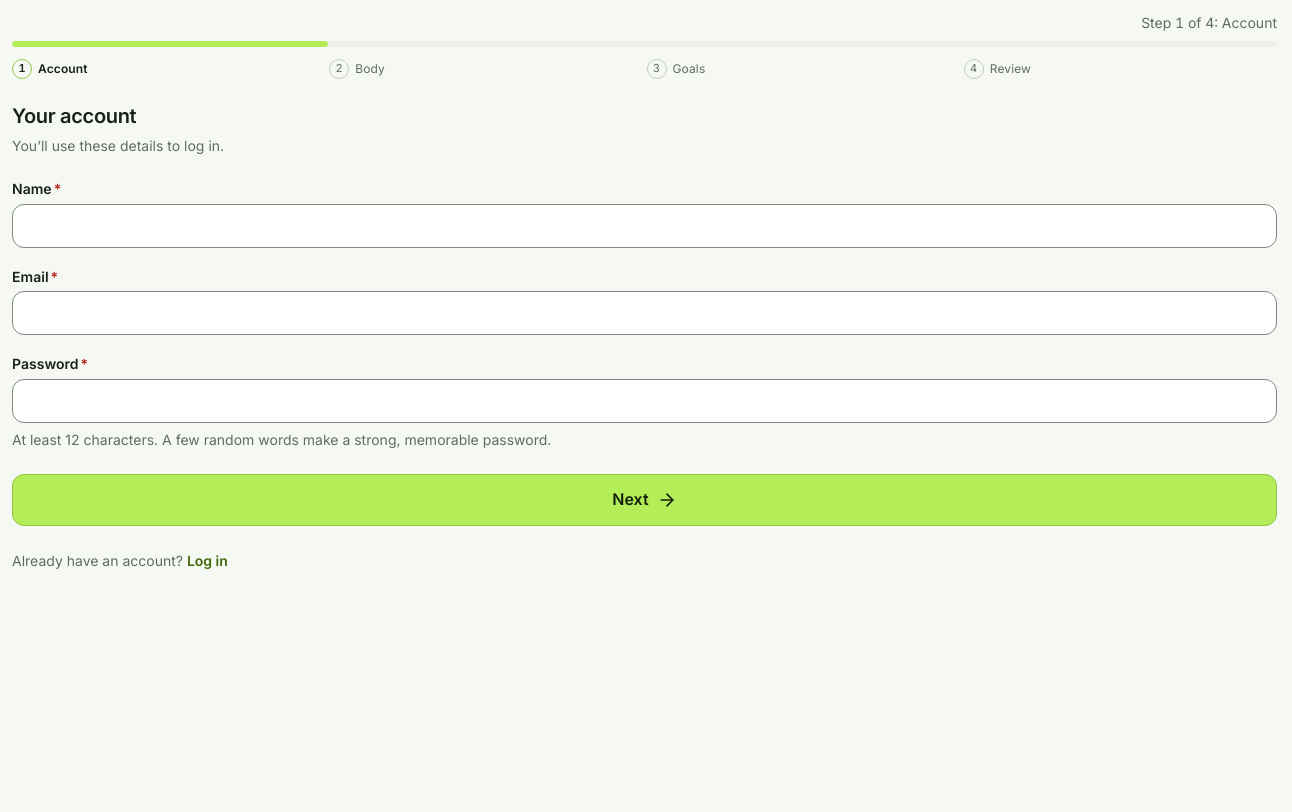
Test: RegisterForm (multi-step registration with onboarding) › moves focus to the new step heading and shows units and numeric keypads
Step 1. Type "Alex" into the field labelled "Name" → (644, 226), box [12,204,1277,248]
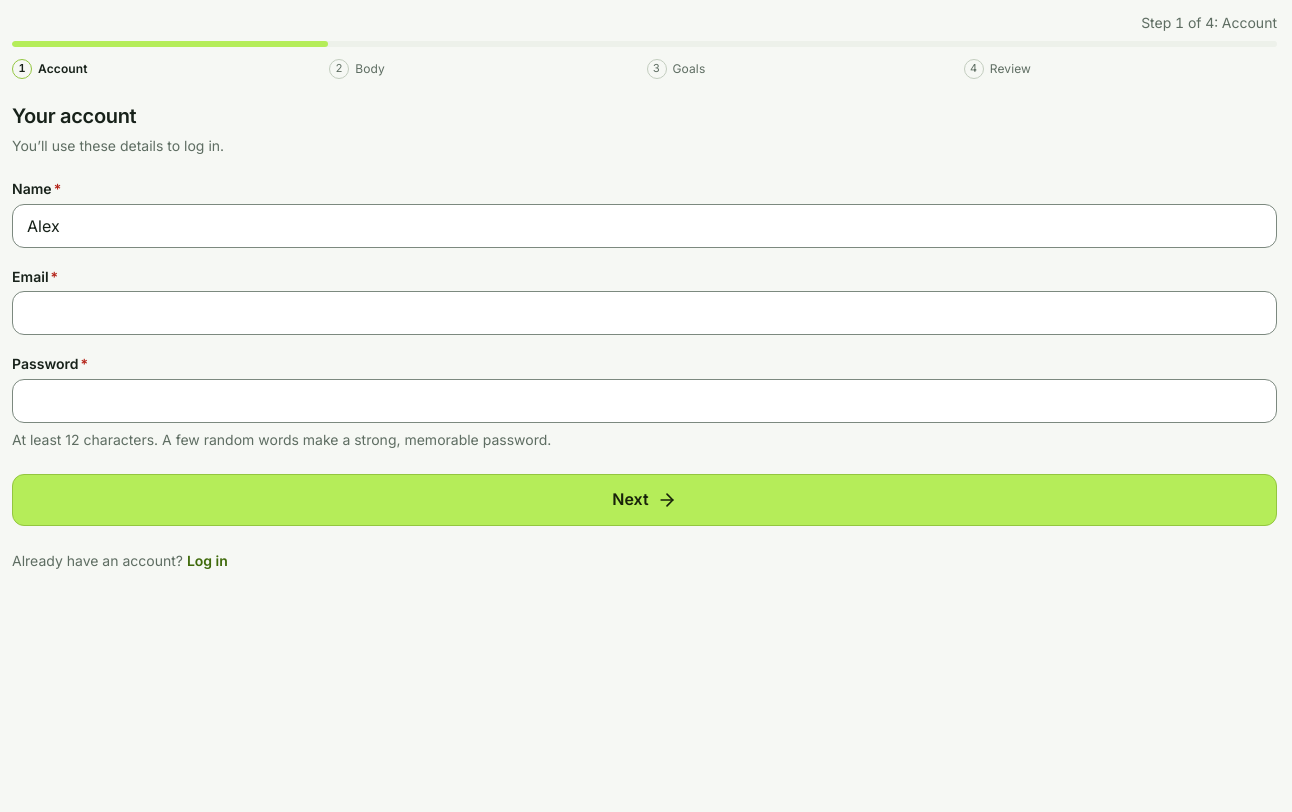
Step 2. Type "alex@example.com" into the field labelled "Email" → (644, 313), box [12,291,1277,335]
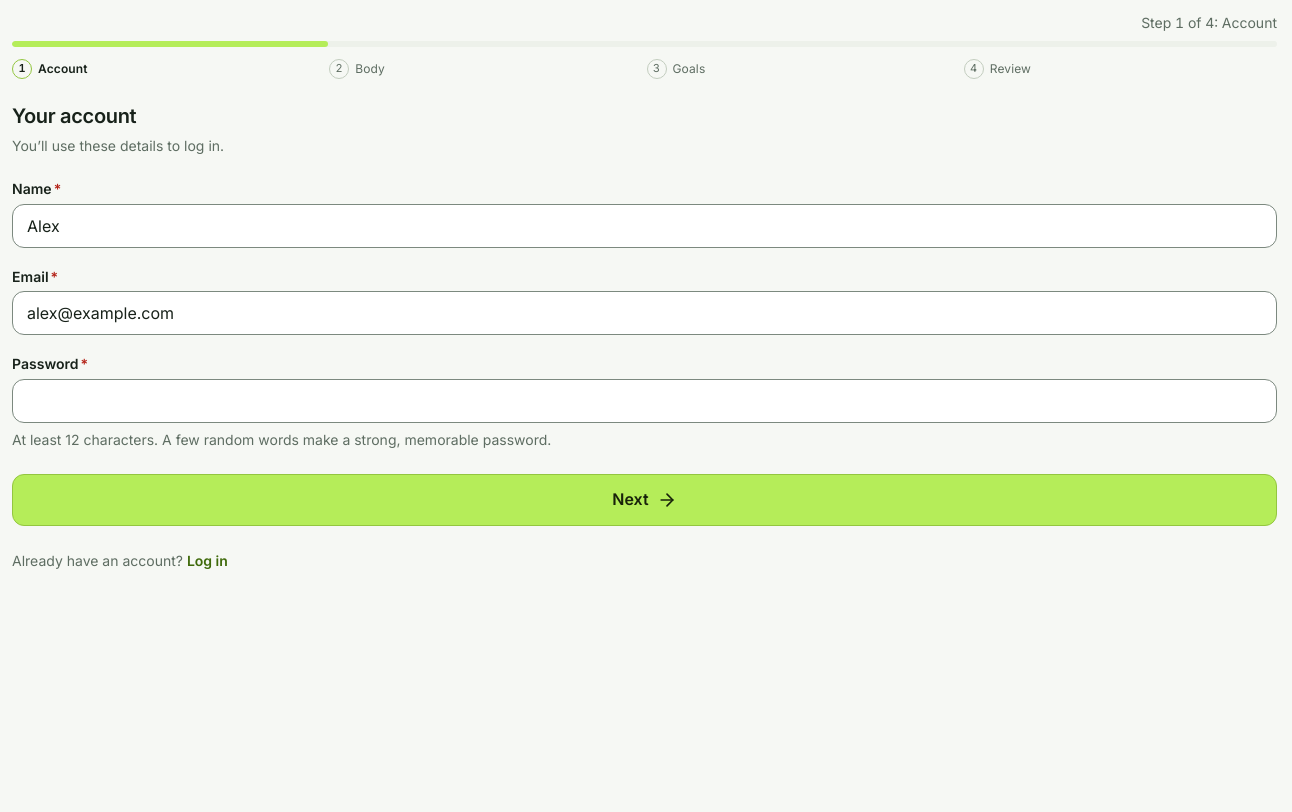
Step 3. Type "correct horse battery staple" into the password field labelled "Password" → (644, 400), box [12,378,1277,422]
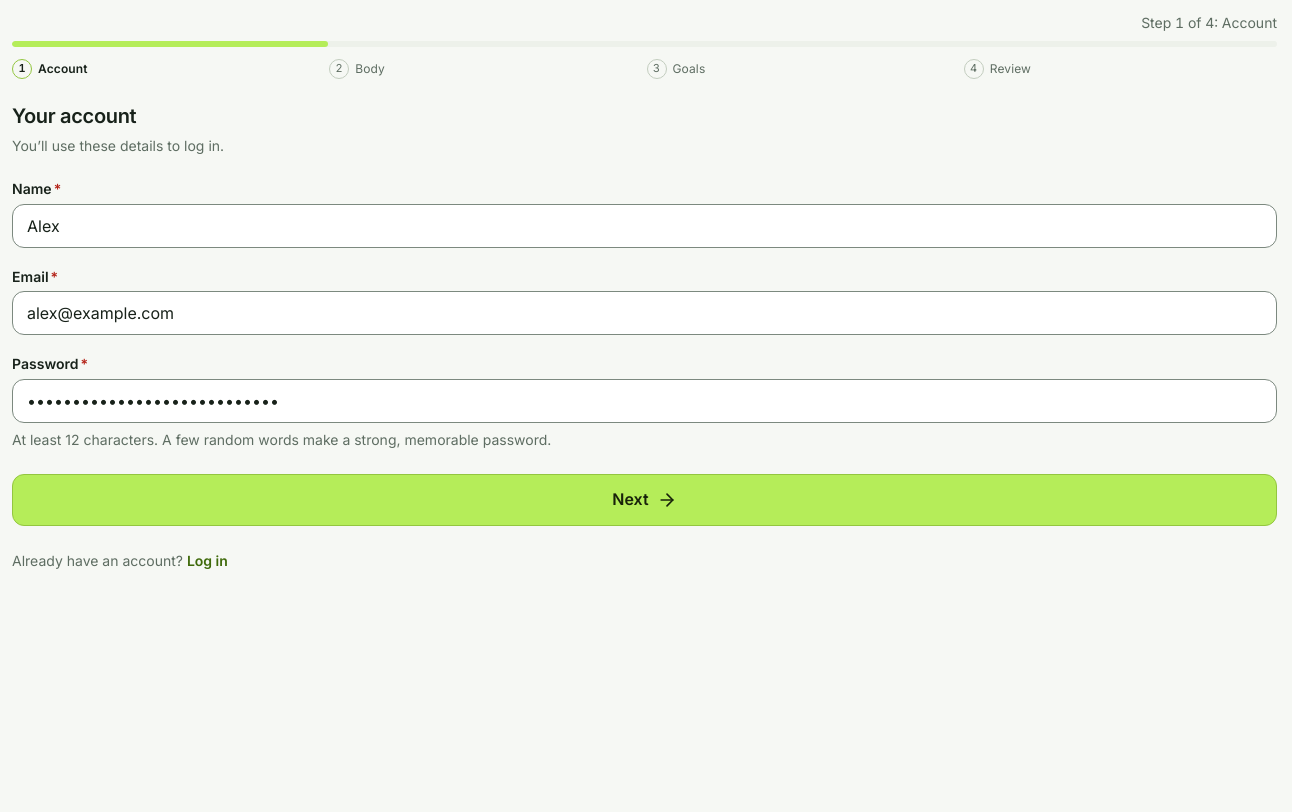
Step 4. Click the button "Next" → (644, 500), box [12,474,1277,526]
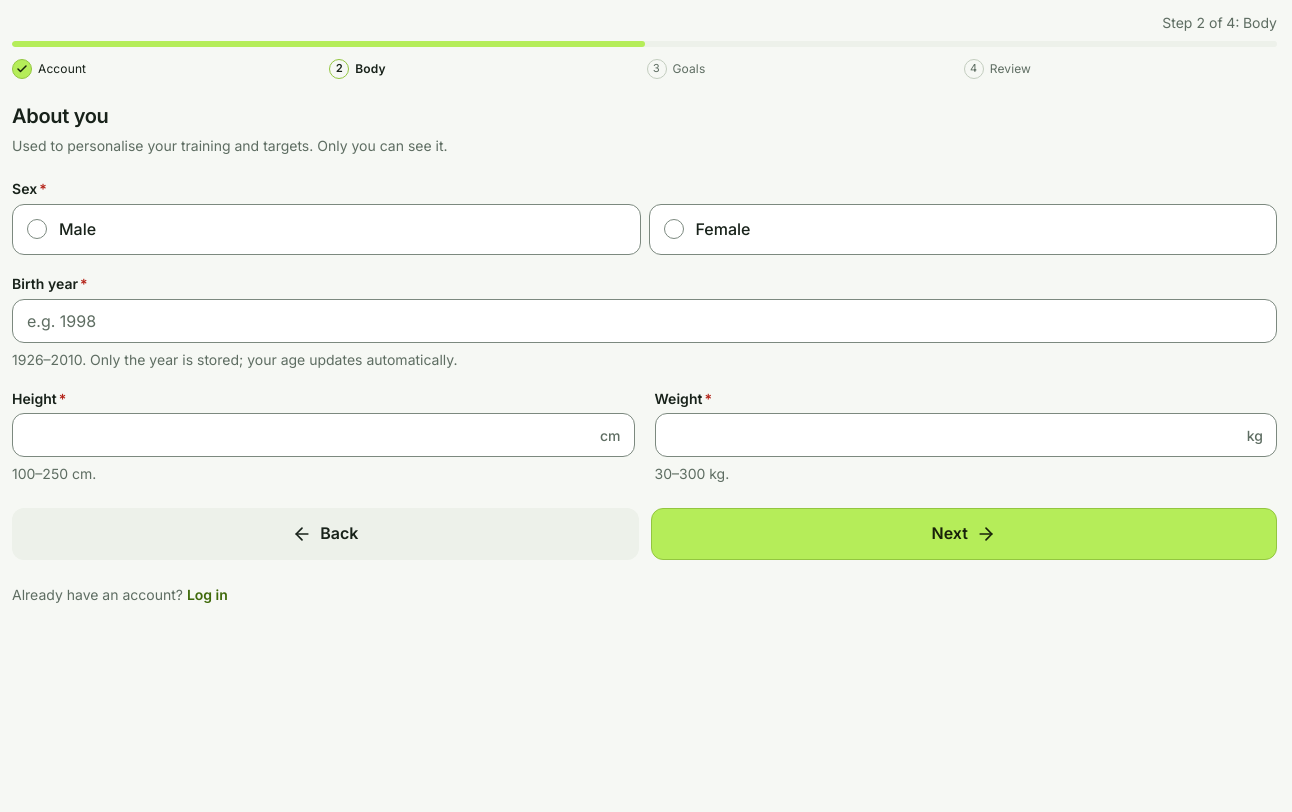
Result: the text "Step 2 of 4: Body" is shown at [1162,12,1277,33]
Result: the heading reads "About you" at [12,104,108,128]
Result: the text "cm" is shown at [600,425,620,446]
